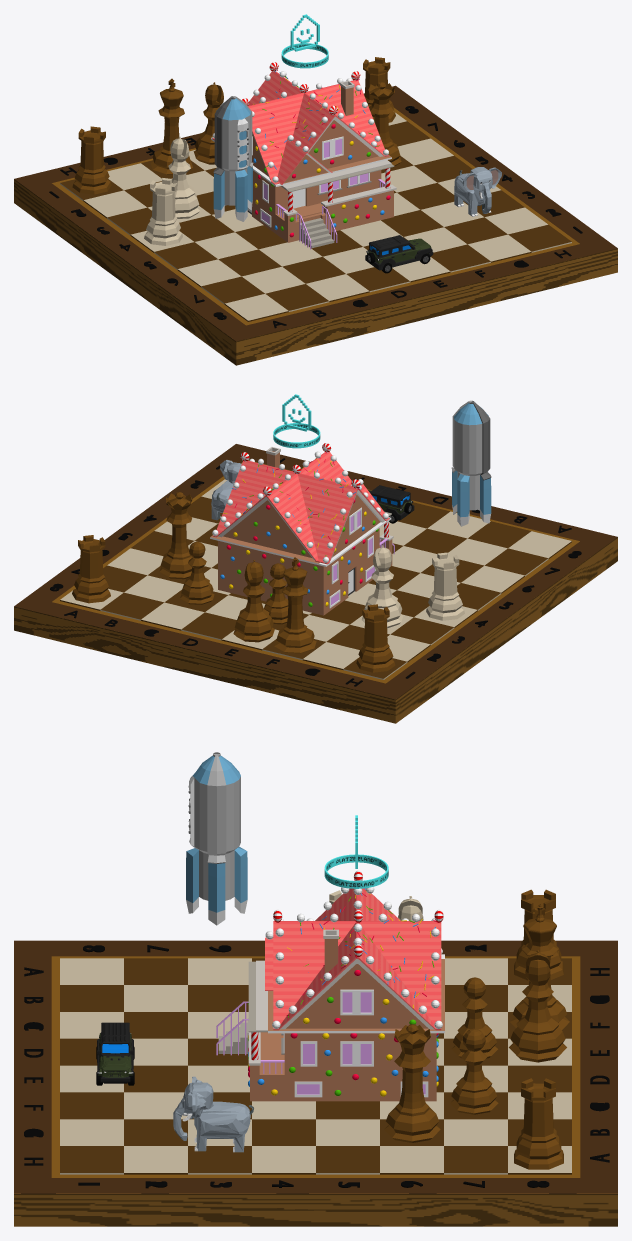
3 views of the same model, one above another, from view 1: azimuth 30°, elevation 25°; view 2: azimuth 150°, elevation 25°; view 3: azimuth 270°, elevation 25° (orthographic). The views are drawn at different scales.
Parts seen in each view (by area): view 1: Cube.002, Cube.1203, OBJRANDOM_ROCKETSHIP, VEHICLES_JEEP, ANIMAL_ELEFANTE, TYPE_PREMIUM; view 2: Cube.002, Cube.1203, OBJRANDOM_ROCKETSHIP, VEHICLES_JEEP, TYPE_PREMIUM, ANIMAL_ELEFANTE; view 3: Cube.002, Cube.1203, OBJRANDOM_ROCKETSHIP, ANIMAL_ELEFANTE, VEHICLES_JEEP, TYPE_PREMIUM.
Part boxes in pixels (left/top/right/bottom): Cube.002: left=14, top=57, right=617, bottom=365; Cube.1203: left=211, top=62, right=396, bottom=249; OBJRANDOM_ROCKETSHIP: left=213, top=96, right=253, bottom=221; VEHICLES_JEEP: left=365, top=235, right=433, bottom=273; ANIMAL_ELEFANTE: left=454, top=167, right=501, bottom=216; TYPE_PREMIUM: left=281, top=14, right=328, bottom=68; Cube.002: left=14, top=444, right=617, bottom=723; Cube.1203: left=210, top=443, right=394, bottom=615; OBJRANDOM_ROCKETSHIP: left=451, top=400, right=491, bottom=526; VEHICLES_JEEP: left=368, top=485, right=414, bottom=523; TYPE_PREMIUM: left=273, top=394, right=320, bottom=448; ANIMAL_ELEFANTE: left=211, top=460, right=241, bottom=520; Cube.002: left=14, top=889, right=617, bottom=1226; Cube.1203: left=216, top=870, right=444, bottom=1101; OBJRANDOM_ROCKETSHIP: left=186, top=752, right=247, bottom=925; ANIMAL_ELEFANTE: left=173, top=1076, right=253, bottom=1152; VEHICLES_JEEP: left=96, top=1022, right=134, bottom=1085; TYPE_PREMIUM: left=324, top=815, right=388, bottom=888.
Size of the model in its own units: 3981 by 2330 by 4012.
Materials: 46 (4 with a texture image).
